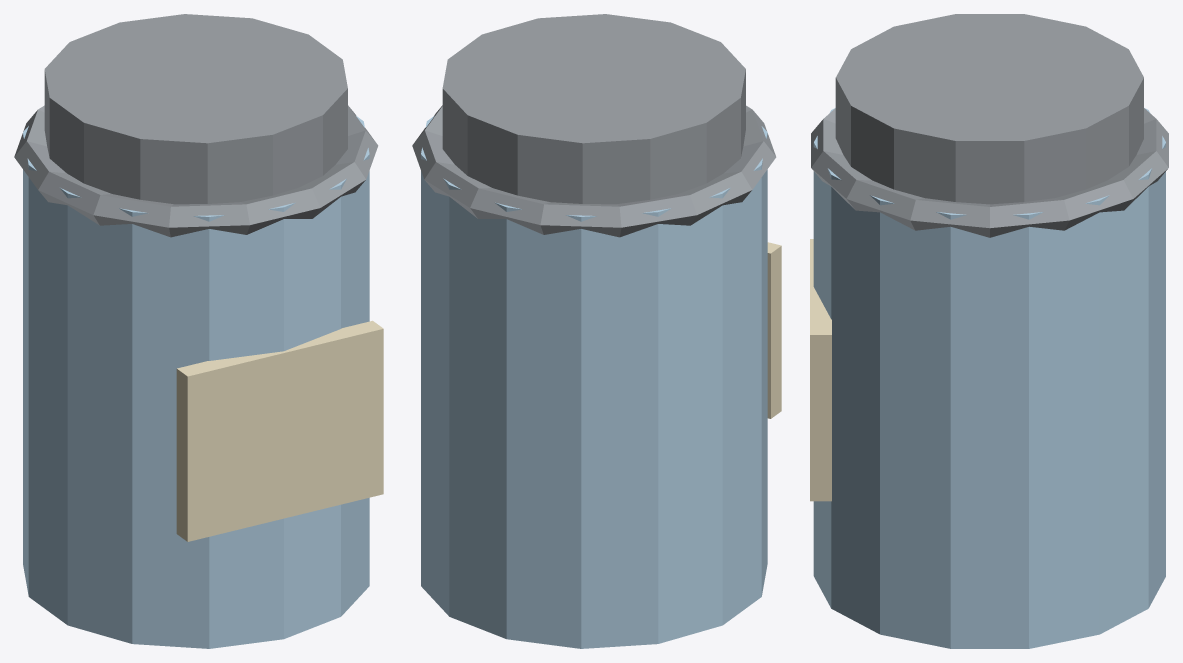
File: jar.glb
3 renders of one model, left to right at view 1: azimuth 30°, elevation 25°; view 2: azimuth 150°, elevation 25°; view 3: azimuth 270°, elevation 25°, orthographic.
Visible parts, largest first — view 1: jar; view 2: jar; view 3: jar.
Part boxes in pixels (x1,y1,x2,y2): jar: (14, 14, 383, 648); jar: (412, 14, 781, 648); jar: (810, 14, 1168, 648).
Size of the model in its own units: 0.1 by 0.15 by 0.0977.
